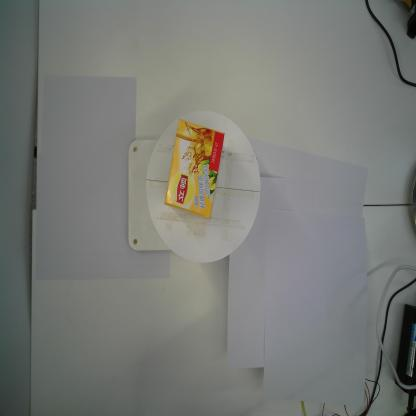Instant Drink: (164, 117, 226, 219)
